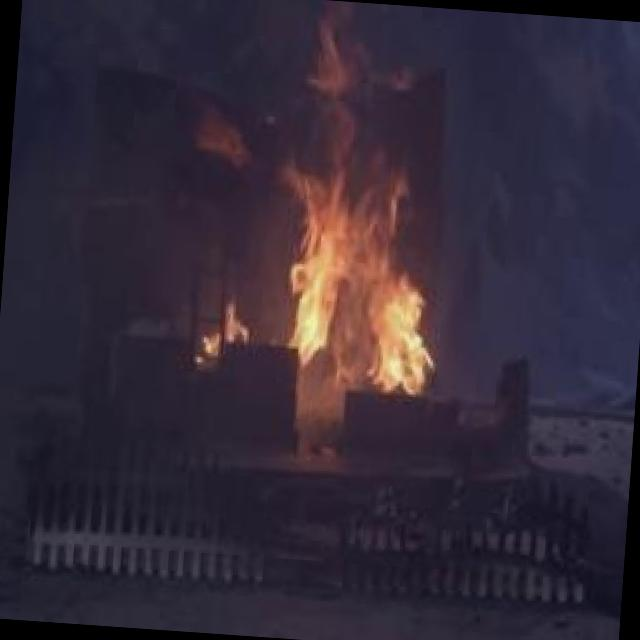fire: (218, 134, 474, 408)
